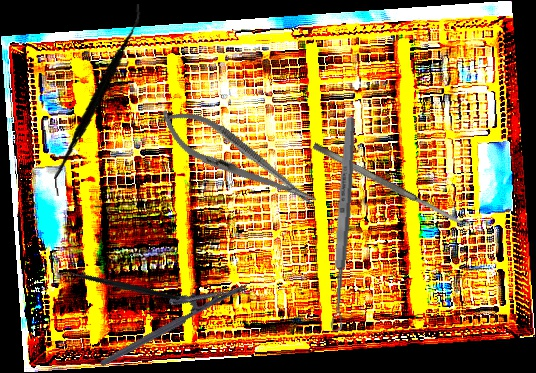Chopper: (58, 236, 181, 339)
Needle Holder: (150, 95, 326, 223), (88, 262, 250, 369)
Spatula Surgical: (37, 3, 160, 197), (311, 141, 464, 228)
Surgical Spoon: (328, 116, 358, 332)
